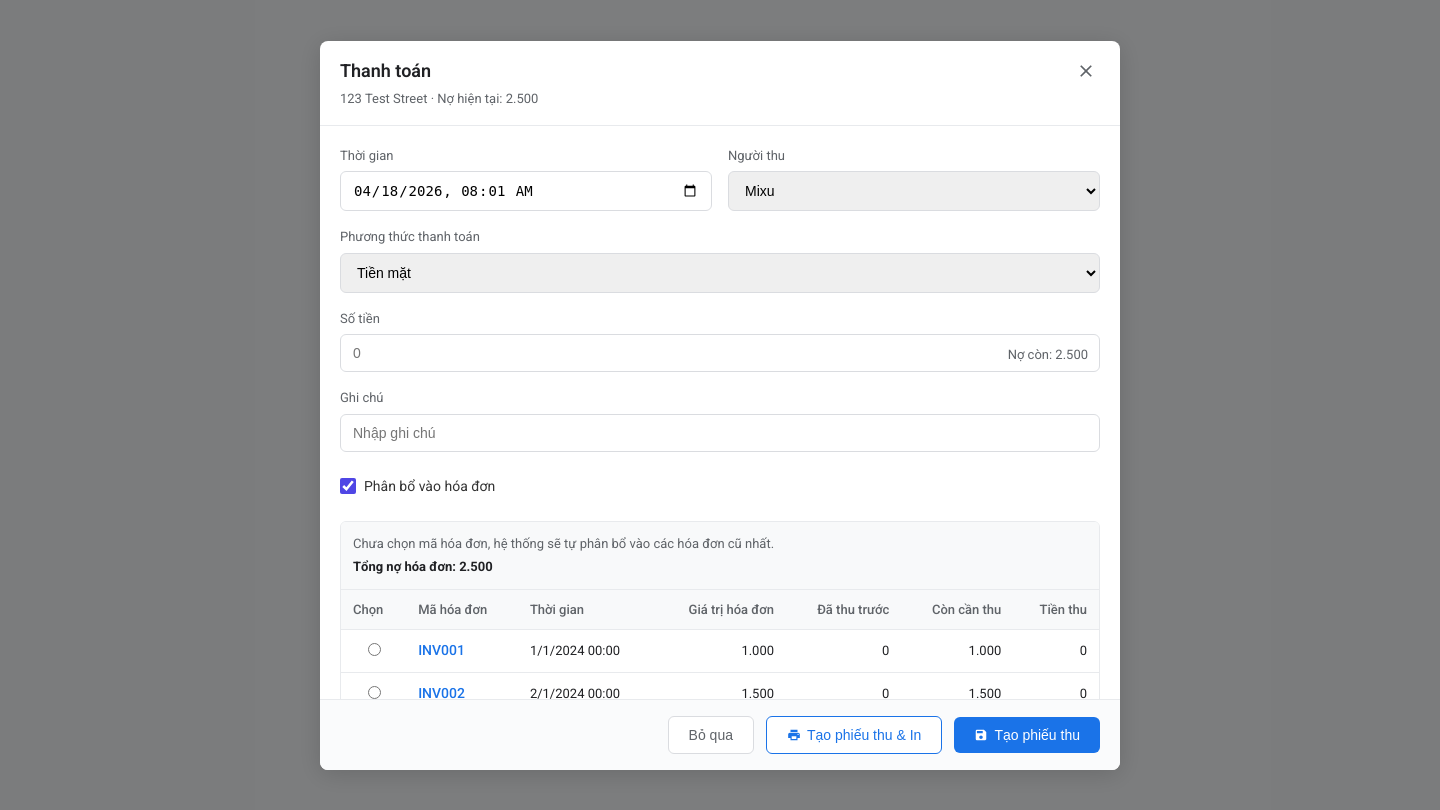
it: PaymentModal › Payment Amount Input › should show remaining debt after payment
Type "1000" into the number field with placeholder "0".
click(720, 353); type("1000")  # box 340,334 -> 1100,372
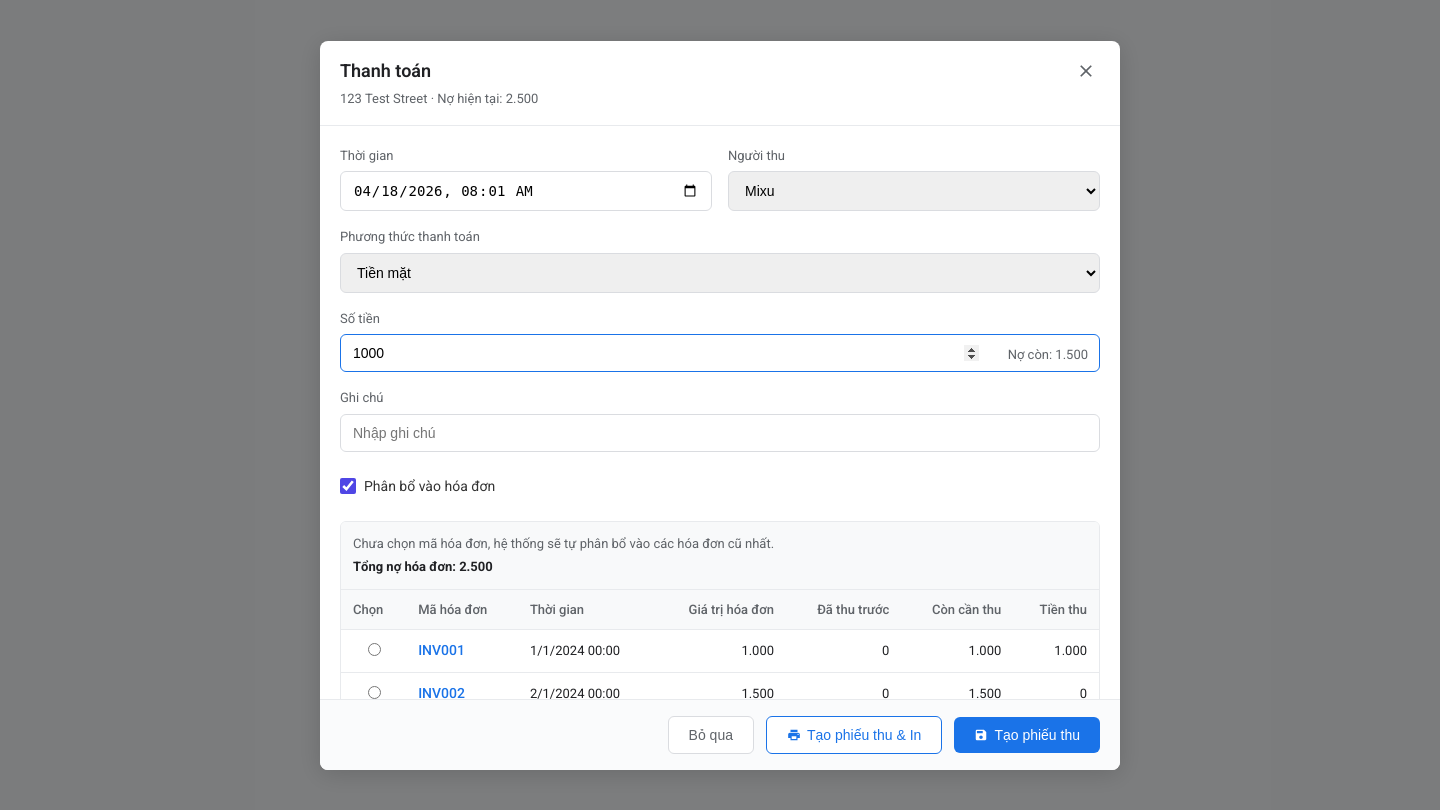
expect the text "Nợ còn: 1.500" is shown: met, box 1008,345 -> 1088,365
